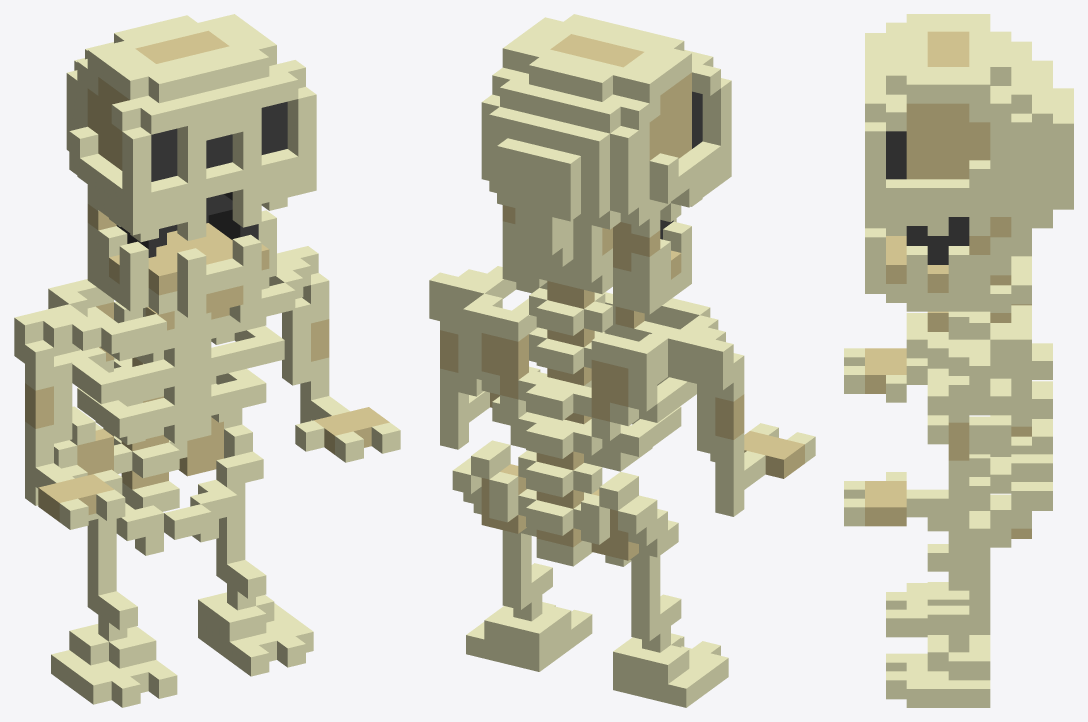
File: skeleton.obj
The picture shows the model from 3 angles, left to right: view 1: azimuth 30°, elevation 25°; view 2: azimuth 150°, elevation 25°; view 3: azimuth 270°, elevation 25°; orthographic projection.
Size of the model in its own units: 1.8 by 3.2 by 1.1.
Materials: 1 (1 with a texture image).
